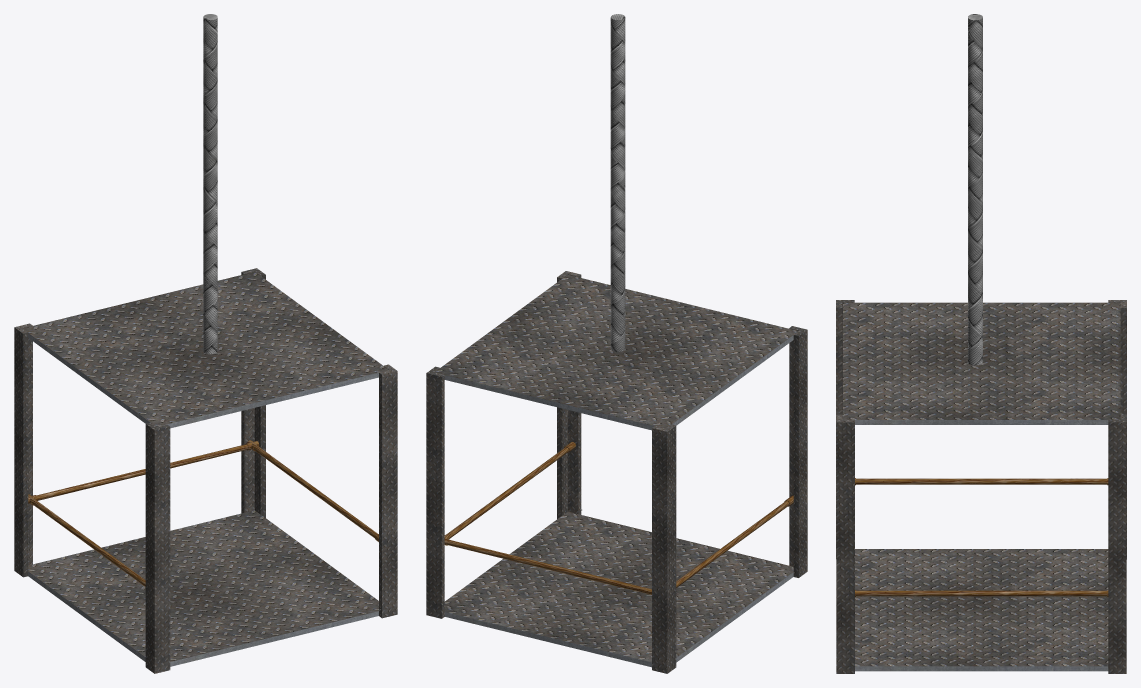
File: Elevator 1.fbx
3 views of the same model, side by side, from view 1: azimuth 30°, elevation 25°; view 2: azimuth 150°, elevation 25°; view 3: azimuth 270°, elevation 25° (orthographic). The views are drawn at different scales.
Visible parts, largest first — view 1: Base; view 2: Base; view 3: Base.
Boxes of the visible parts, left/top/right/bottom form: Base: left=14, top=14, right=397, bottom=673; Base: left=426, top=14, right=807, bottom=673; Base: left=836, top=14, right=1126, bottom=673.
Bounding box in the file's own units: 157 × 356 × 157.
